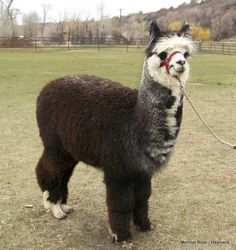alpaca: (34, 18, 193, 248)
